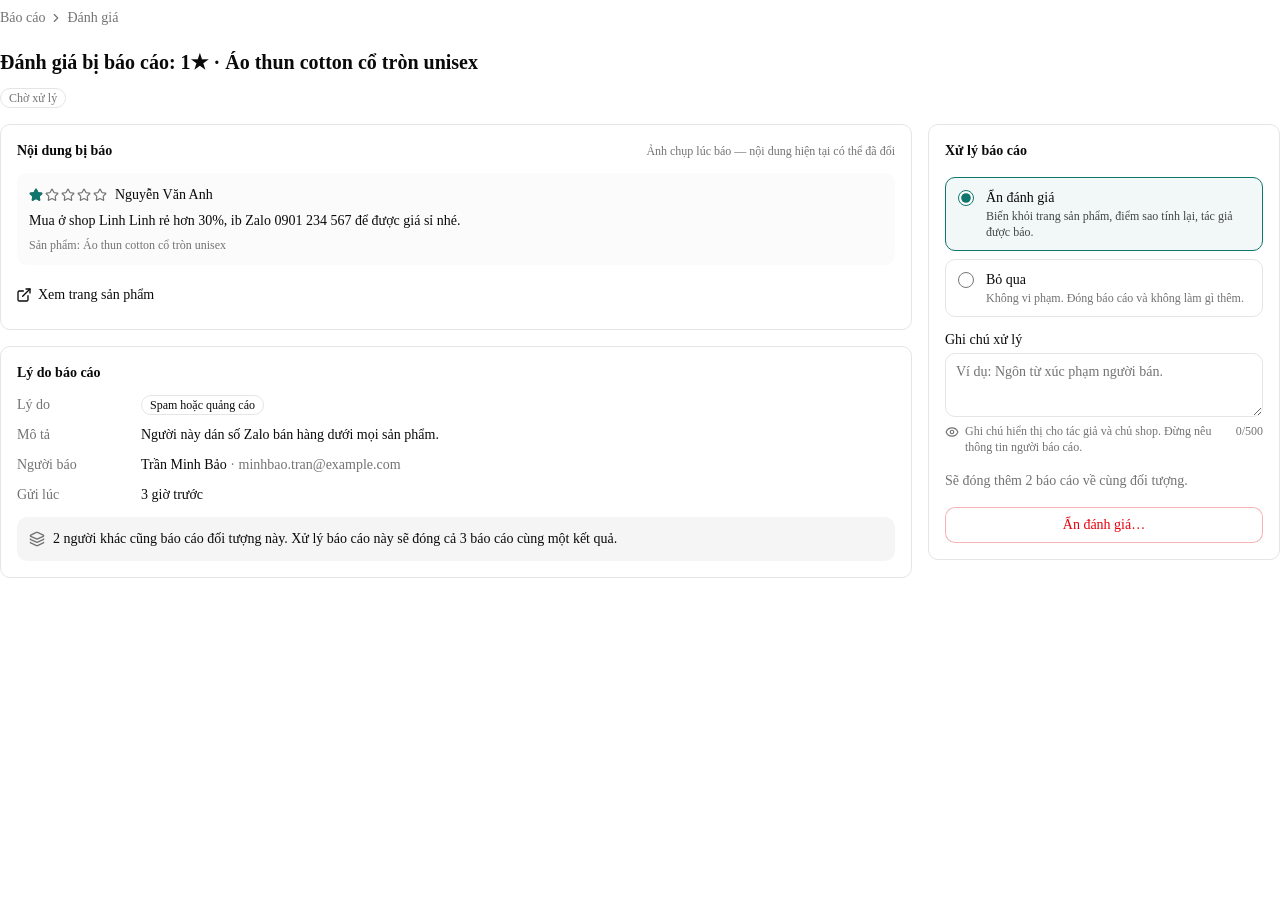
Scenario: AdminReportDetailContainer (trang chi tiết — phương án A) › luồng xử lý › chọn hành động + ghi chú → hộp thoại xác nhận → xác nhận gọi API đúng id + lựa chọn, toast, trang chuyển sang "Kết quả xử lý"
Expected: the heading "Xử lý báo cáo" is shown, [945,143,1027,158]
In the text box labelled "Ghi chú xử lý": (1104, 385) [945,353,1263,417], type "Ngôn từ xúc phạm người bán."
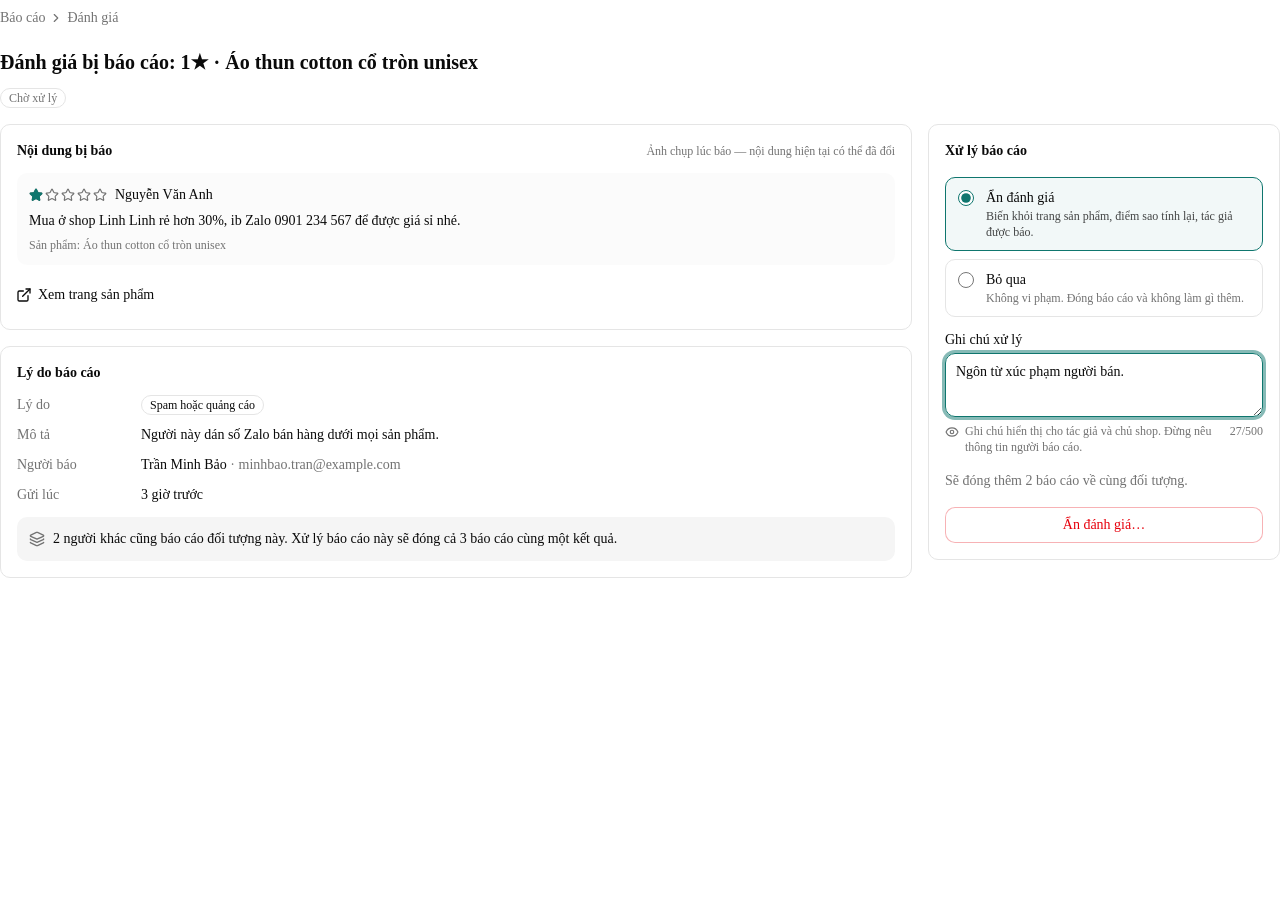
Click the button "Ẩn đánh giá…": (1104, 525) [945,507,1263,543]
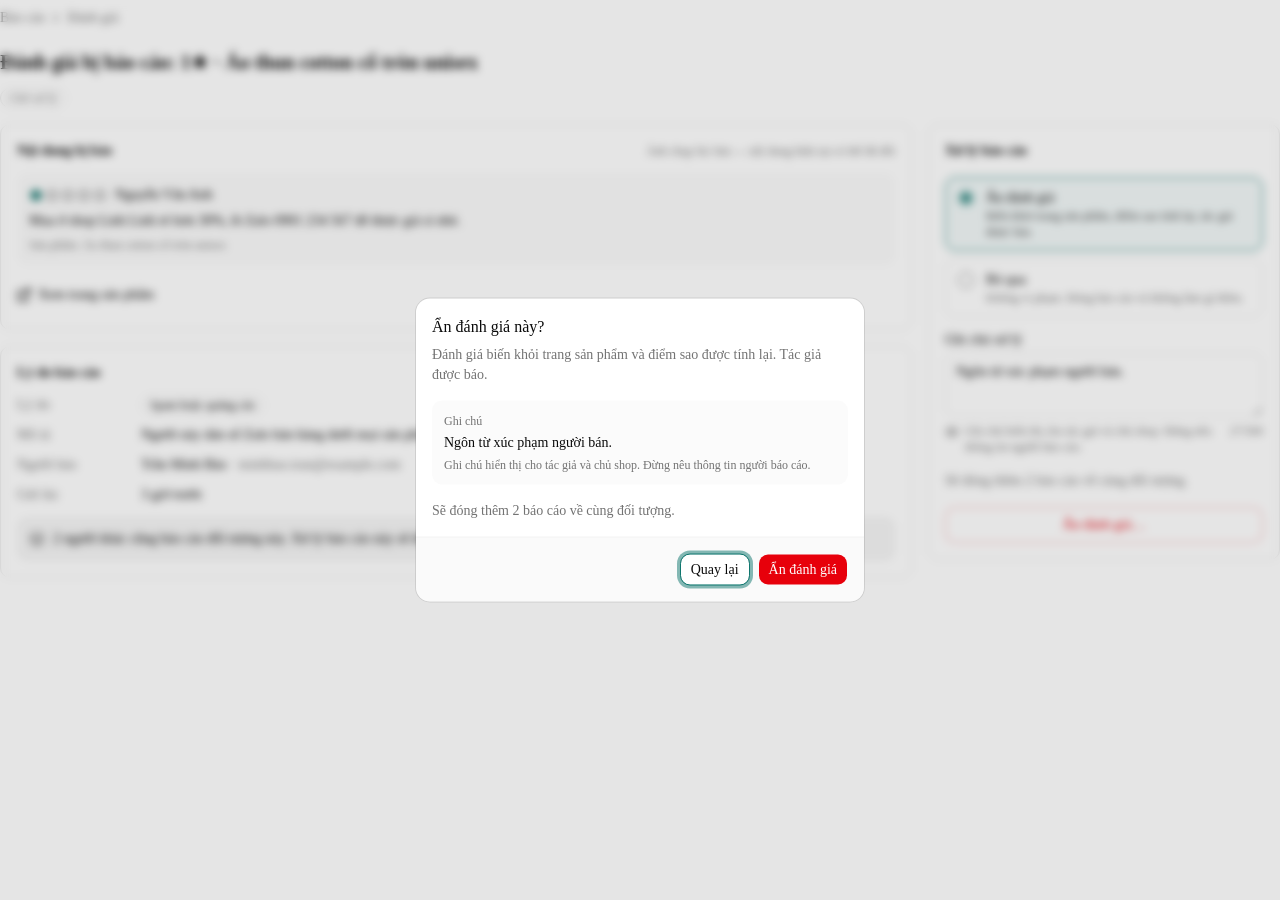
Now the dialog "Ẩn đánh giá này?" shows "Ngôn từ xúc phạm người bán.", box [444,434,612,450]
Now the dialog "Ẩn đánh giá này?" shows "Sẽ đóng thêm 2 báo cáo", box [432,502,675,518]
Click the button "Ẩn đánh giá": (803, 570) [758,554,848,586]
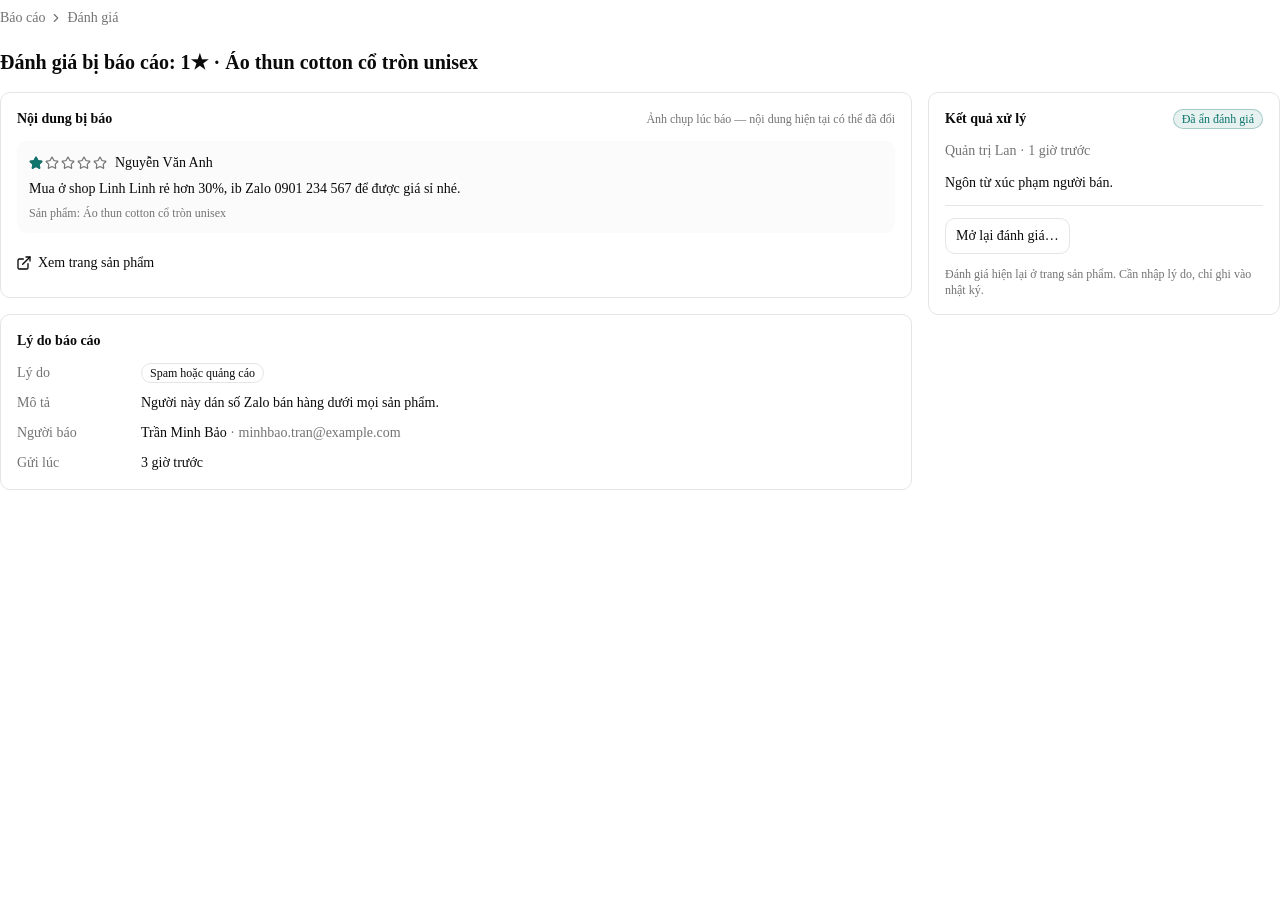
Now the heading "Kết quả xử lý" is shown, box [945,109,1026,129]
Now the text "Xử lý báo cáo" is gone
